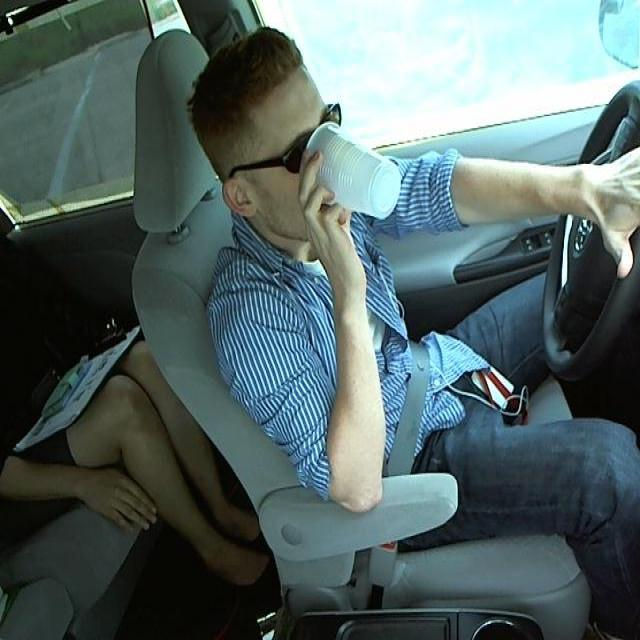drinking: (298, 119, 405, 220)
